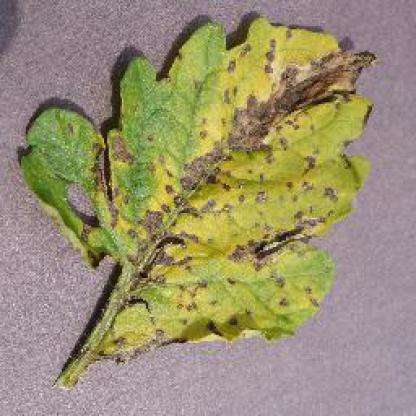bad leaf: (46, 28, 370, 365)
